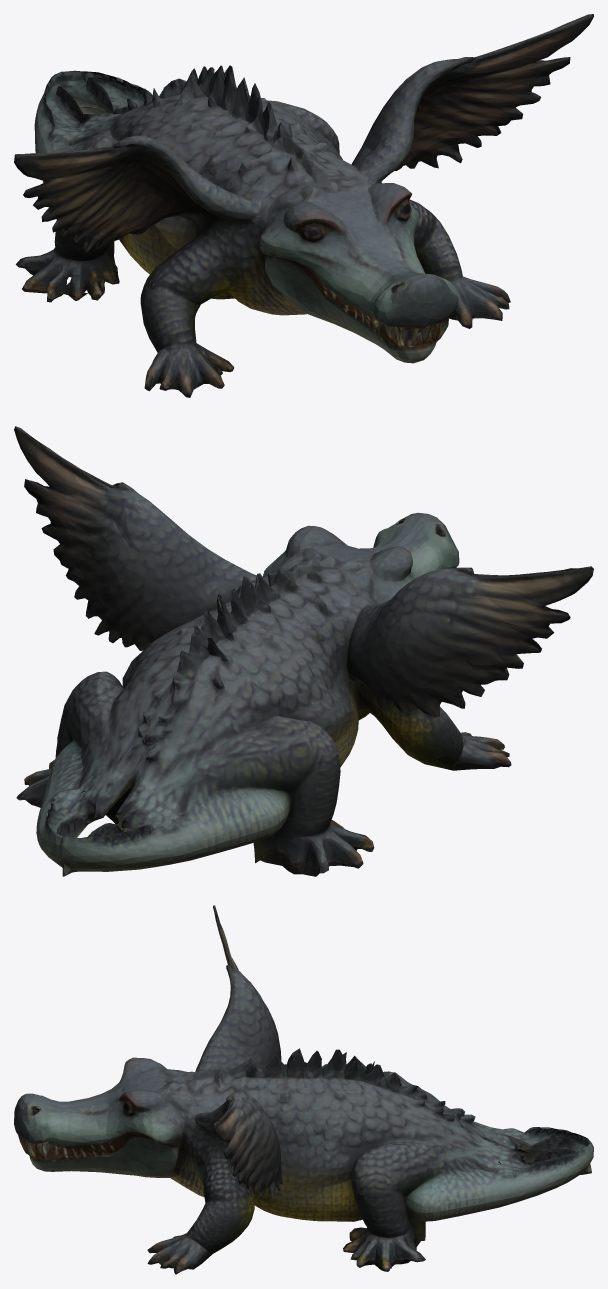
The model's file is vox.glb.
3 views of the same model, one above another, from view 1: azimuth 30°, elevation 25°; view 2: azimuth 150°, elevation 25°; view 3: azimuth 270°, elevation 25° (orthographic). The views are drawn at different scales.
Visible parts, largest first — view 1: world; view 2: world; view 3: world.
Boxes of the visible parts, <box> form: world: <box>14,14,593,397</box>; world: <box>14,426,593,876</box>; world: <box>14,905,593,1274</box>.
Bounding box in the file's own units: 0.8998 × 0.3767 × 0.9996.
1 material, 1 textured.
